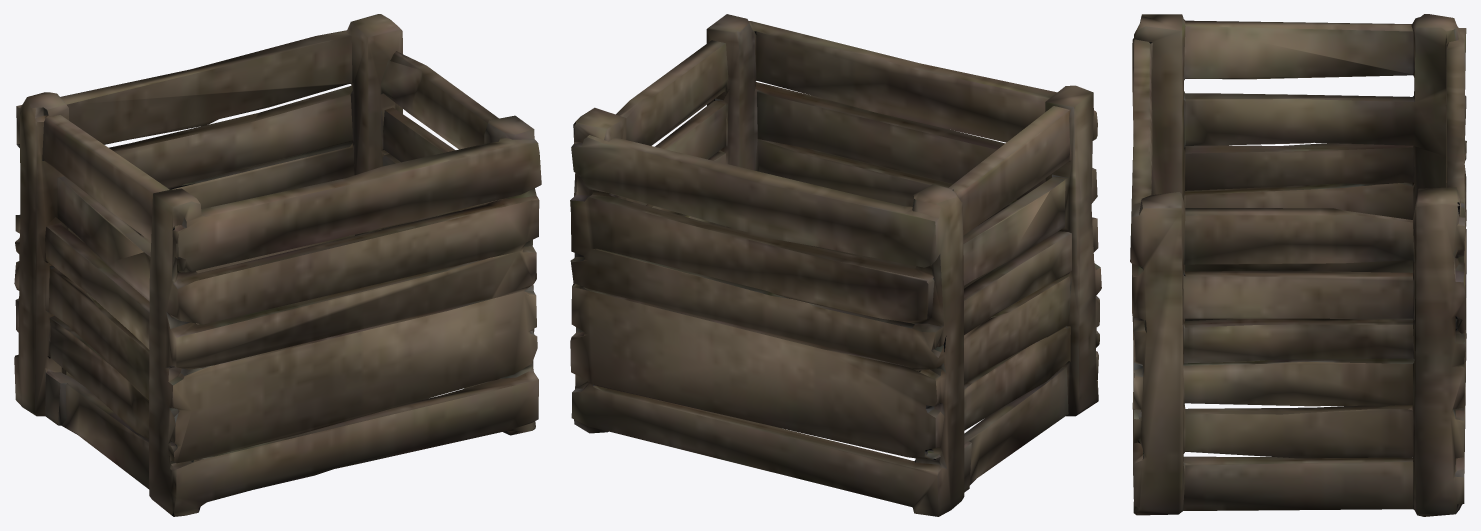
The model's file is simple-wood-crate-v001.glb.
3 renders of one model, left to right at view 1: azimuth 30°, elevation 25°; view 2: azimuth 150°, elevation 25°; view 3: azimuth 270°, elevation 25°, orthographic. The views are drawn at different scales.
Visible parts, largest first — view 1: simple-wood-crate; view 2: simple-wood-crate; view 3: simple-wood-crate.
Boxes of the visible parts, left/top/right/bottom form: simple-wood-crate: left=14, top=14, right=541, bottom=516; simple-wood-crate: left=570, top=14, right=1101, bottom=516; simple-wood-crate: left=1130, top=14, right=1466, bottom=516.
Bounding box in the file's own units: 0.7863 × 0.6365 × 0.6.
Materials: 1 (1 with a texture image).
